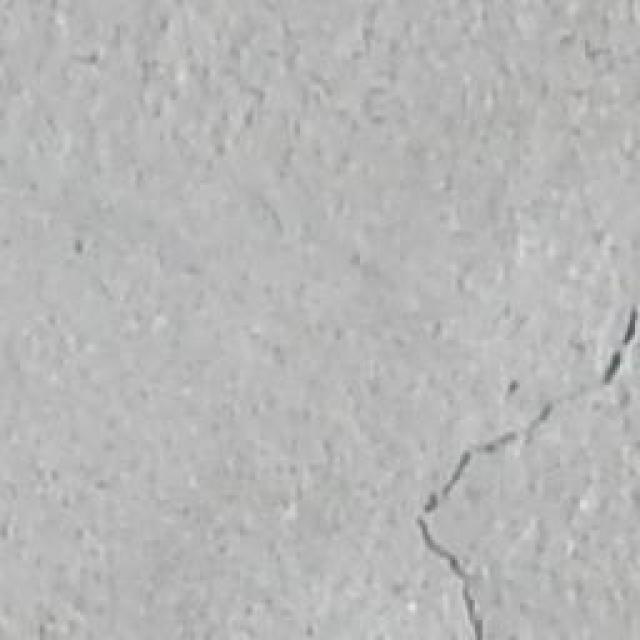concrete-crack: (410, 300, 640, 640)
